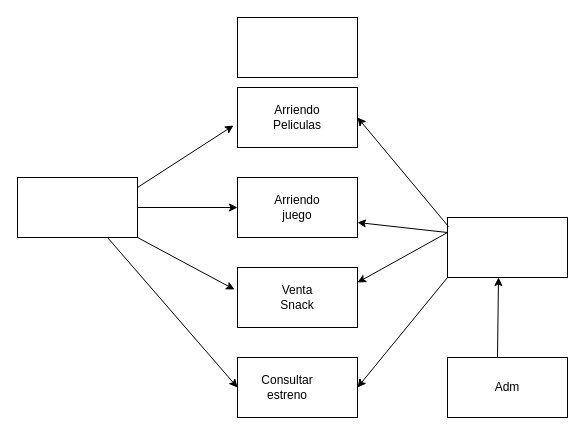
This 585x435 diagram has some shape labels left out. Each missing label, with the centre of its shape:
"Cliente" goes at (77,207).
"Registrarse" goes at (297,47).
"Vendedor" goes at (507,247).
